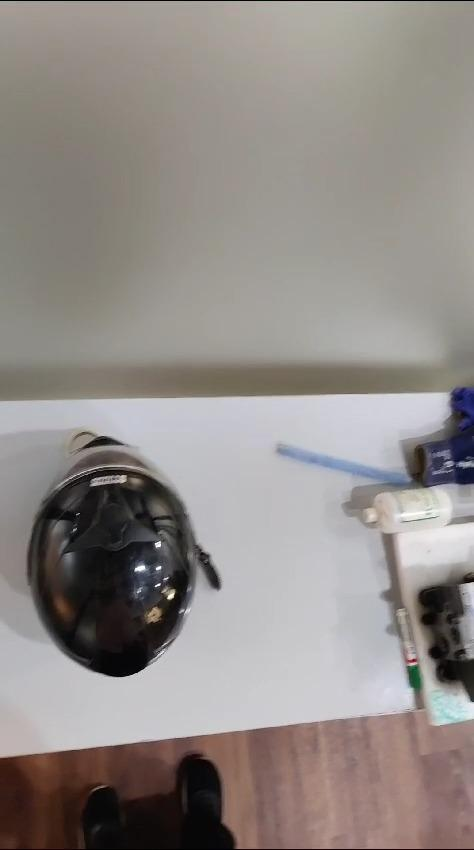Helmet: (28, 432, 220, 676)
